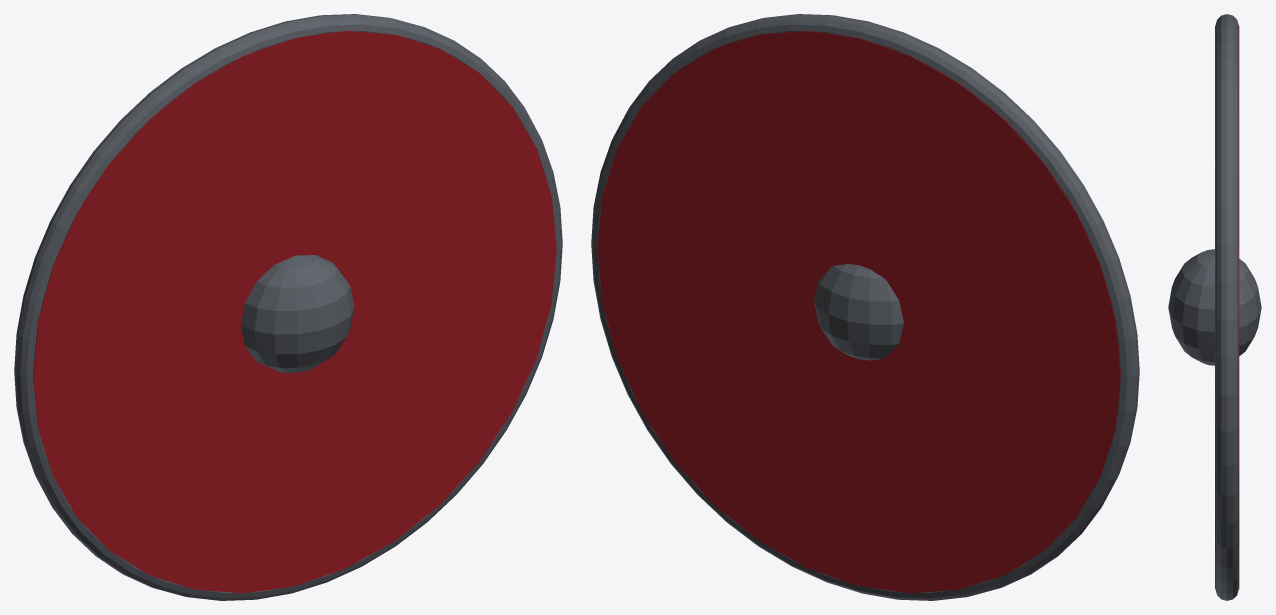
Rendered from Shield_Crimson.gltf.
The picture shows the model from 3 angles, left to right: view 1: azimuth 30°, elevation 25°; view 2: azimuth 150°, elevation 25°; view 3: azimuth 270°, elevation 25°; orthographic projection. The views are drawn at different scales.
Visible parts, largest first — view 1: Cylinder; view 2: Cylinder; view 3: Cylinder.
Boxes of the visible parts, bbox=[...] form: Cylinder: bbox=[14, 14, 562, 600]; Cylinder: bbox=[591, 14, 1139, 600]; Cylinder: bbox=[1168, 14, 1261, 600].
Size of the model in its own units: 0.604 by 0.604 by 0.096.
